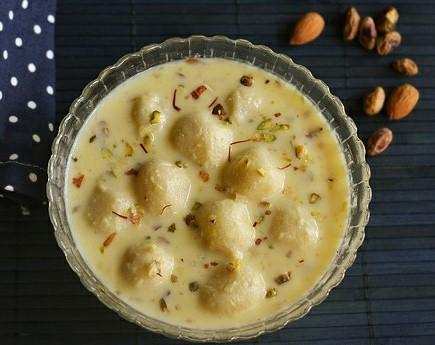RasMalai: (65, 56, 345, 326)
